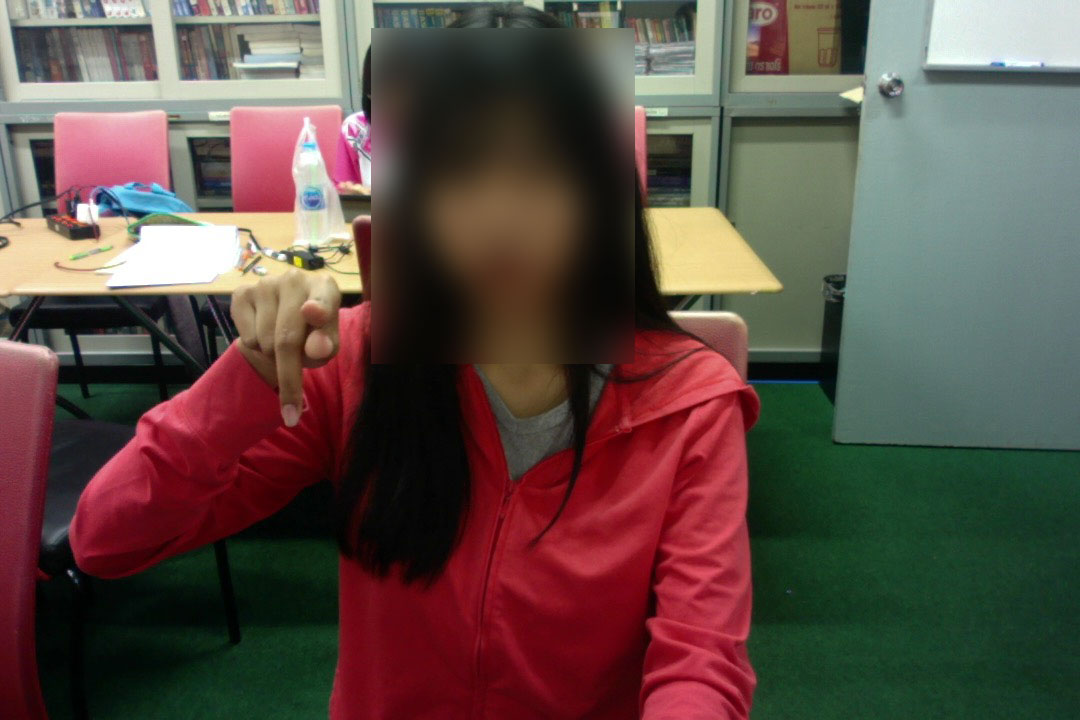por: (226, 268, 347, 430)
